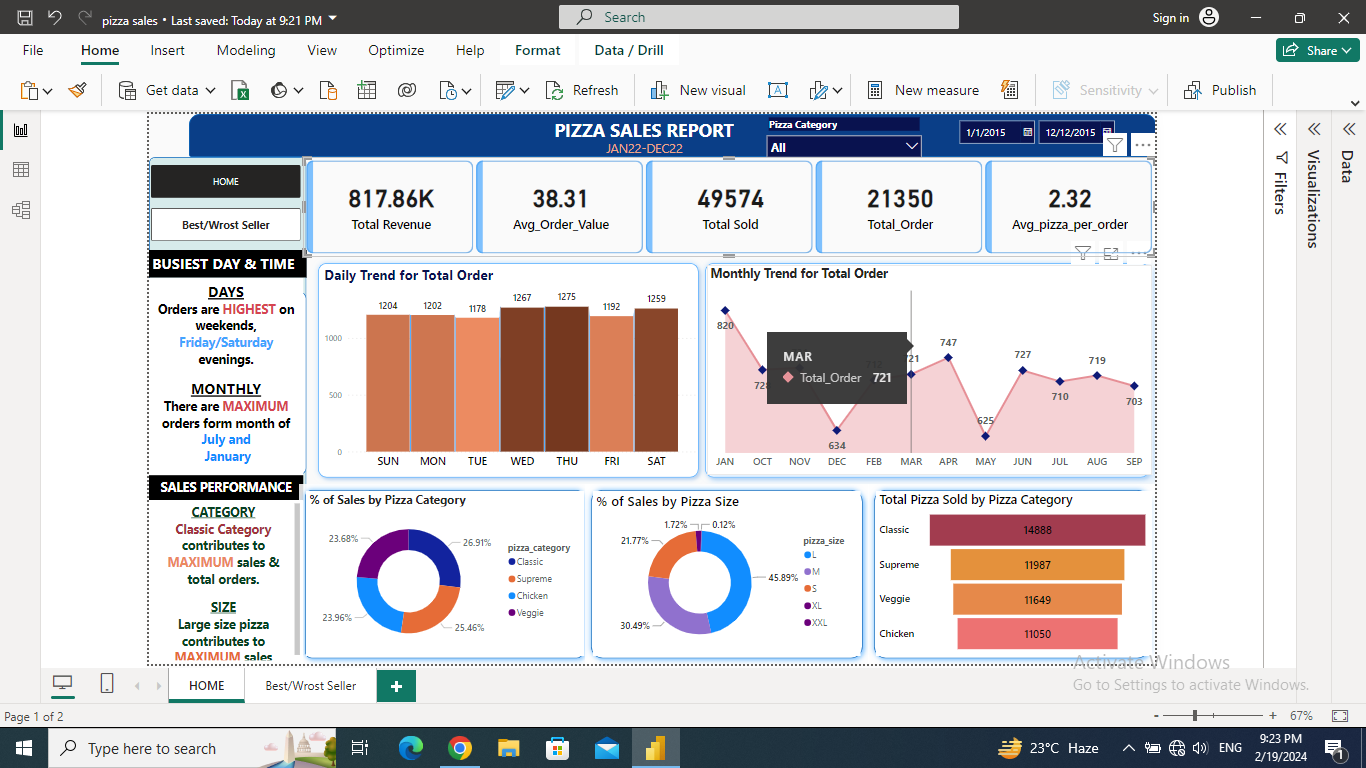

What the dashboard file says about the page in this screenshot:
{"tool":"powerbi","page":{"name":"HOME","canvas":[1500,820],"ordinal":0},"visuals":[{"type":"shape","box":[0,64,234.5,744.6],"z":0},{"type":"textbox","box":[0,537.9,229.6,37.7],"z":1000},{"type":"shape","box":[242.7,213.2,585.5,337.8],"z":2000},{"type":"columnChart","title":"Daily Trend for Total Order ","fields":{"Category":["pizza_sales.Order_Day"],"Y":["pizza_sales.Total_Order"]},"box":[255.8,224.7,564.2,313.2],"z":3000},{"type":"cardVisual","fields":{"Data":["pizza_sales.Total Revenue","pizza_sales.Avg_Order_Value","pizza_sales.Total Sold","pizza_sales.Total_Order","pizza_sales.Avg_pizza_per_order"]},"box":[229.6,64,1271,149.2],"z":4000},{"type":"shape","box":[59,0,1441.6,64],"z":5000},{"type":"textbox","box":[582.2,0,310,50.8],"z":6000},{"type":"textbox","box":[649.4,32.8,177.1,42.6],"z":7000},{"type":"shape","box":[820,213.2,680.6,337.8],"z":8000},{"type":"pageNavigator","box":[3.3,139.4,223,49.2],"z":8500},{"type":"areaChart","title":"Monthly Trend for Total Order ","fields":{"Category":["pizza_sales.Order_Month"],"Y":["pizza_sales.Total_Order"]},"box":[831.5,224.7,664.2,313.2],"z":9000},{"type":"shape","box":[223,551,433,269],"z":10000},{"type":"textbox","box":[0,203.4,234.5,41],"z":11000},{"type":"shape","box":[649.4,551,423.1,269],"z":12000},{"type":"shape","box":[1072.6,551,428,269],"z":13000},{"type":"funnel","title":"Total Pizza Sold by Pizza Category","fields":{"Category":["pizza_sales.pizza_category"],"Y":["pizza_sales.Total Sold"]},"box":[1084,562.5,411.6,246],"z":14000},{"type":"donutChart","title":"% of Sales by Pizza Size","fields":{"Category":["pizza_sales.pizza_size"],"Y":["pizza_sales.Total Revenue"]},"box":[662.6,562.5,398.5,246],"z":15000},{"type":"donutChart","title":"% of Sales by Pizza Category","fields":{"Category":["pizza_sales.pizza_category"],"Y":["pizza_sales.Total Revenue"]},"box":[234.5,562.5,414.9,246],"z":16000},{"type":"shape","box":[0,265.7,234.5,272.2],"z":17000},{"type":"textbox","box":[0,244.4,229.6,293.6],"z":18000},{"type":"textbox","box":[0,575.6,229.6,244.4],"z":19000},{"type":"slicer","fields":{"Values":["pizza_sales.pizza_category"]},"box":[910.2,0,250.9,64],"z":20000},{"type":"slicer","fields":{"Values":["pizza_sales.order_date"]},"box":[1195.6,0,262.4,64],"z":21000},{"type":"pageNavigator","box":[3.3,75.4,223,49.2],"z":23000}]}

Visuals, with their boxes on the page's 1500x820 design canvas (x1, y1, x2, y2). These are canvas units, not pixel positions in the 1366x768 screenshot, which may show the page scaled, cropped or inside an application window:
shape: (0,64,234,809)
textbox: (0,538,230,576)
shape: (243,213,828,551)
"Daily Trend for Total Order " columnChart: (256,225,820,538)
cardVisual - pizza_sales.Total Revenue x pizza_sales.Avg_Order_Value: (230,64,1501,213)
shape: (59,0,1501,64)
textbox: (582,0,892,51)
textbox: (649,33,826,75)
shape: (820,213,1501,551)
pageNavigator: (3,139,226,189)
"Monthly Trend for Total Order " areaChart: (832,225,1496,538)
shape: (223,551,656,820)
textbox: (0,203,234,244)
shape: (649,551,1072,820)
shape: (1073,551,1501,820)
"Total Pizza Sold by Pizza Category" funnel: (1084,562,1496,808)
"% of Sales by Pizza Size" donutChart: (663,562,1061,808)
"% of Sales by Pizza Category" donutChart: (234,562,649,808)
shape: (0,266,234,538)
textbox: (0,244,230,538)
textbox: (0,576,230,820)
slicer - pizza_sales.pizza_category: (910,0,1161,64)
slicer - pizza_sales.order_date: (1196,0,1458,64)
pageNavigator: (3,75,226,125)
